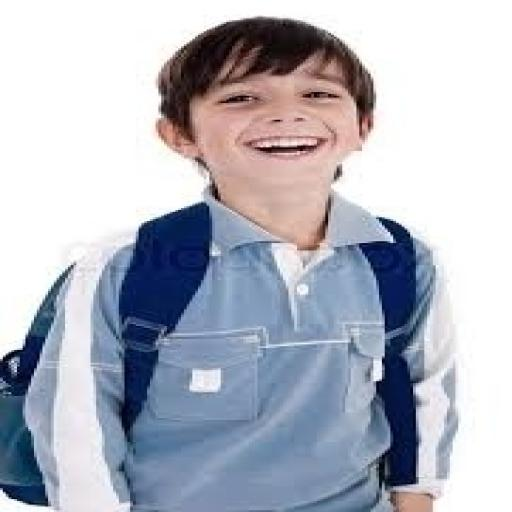laughing: (0, 13, 470, 510)
